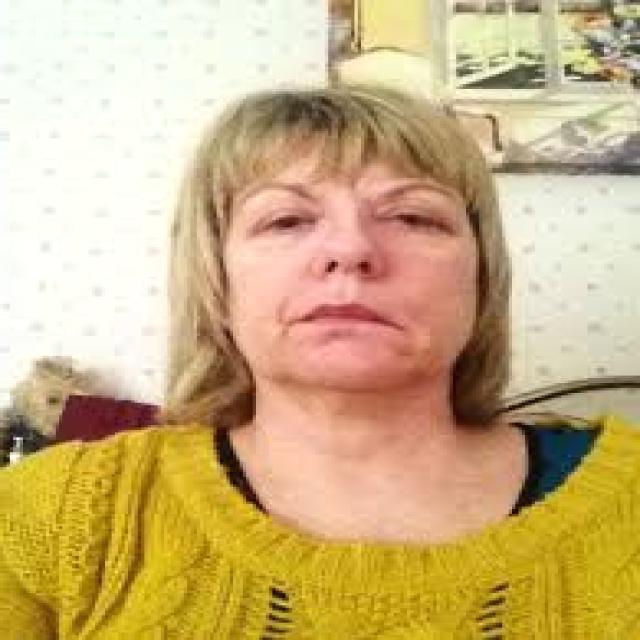stroke_face: (168, 75, 486, 413)
